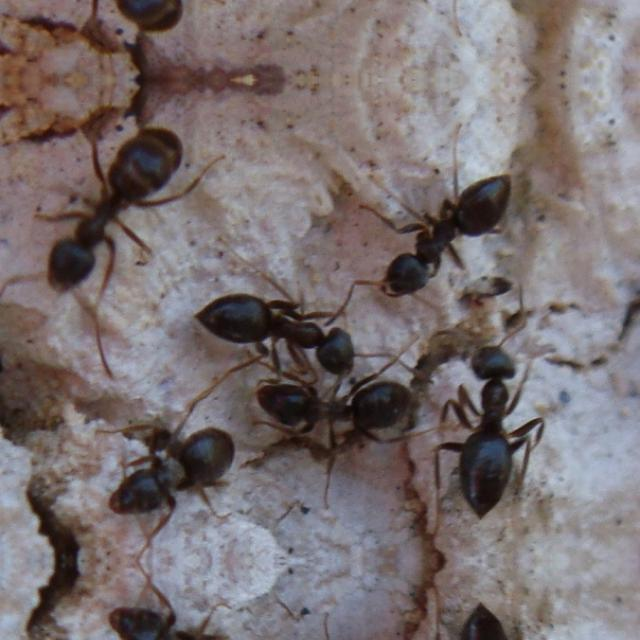Lasius: (25, 120, 189, 312), (367, 152, 518, 302), (195, 270, 383, 382), (245, 356, 428, 454), (446, 356, 550, 520), (109, 404, 253, 520), (109, 598, 253, 640), (446, 600, 550, 640)
